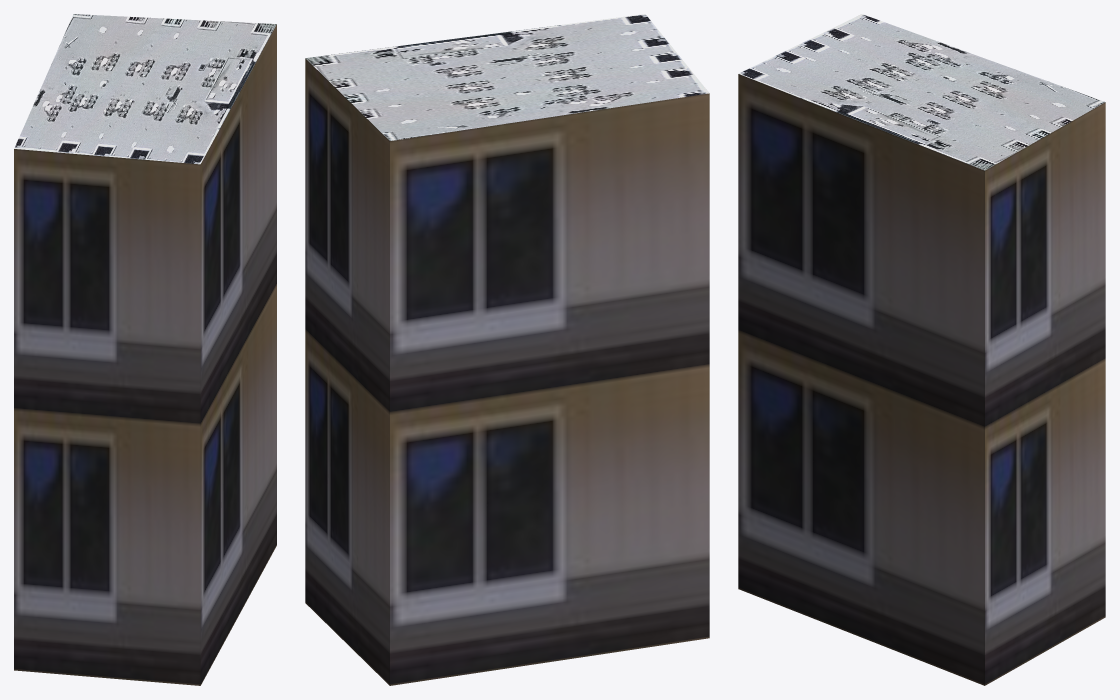
File: ResTex__261.fbx
3 views of the same model, side by side, from view 1: azimuth 30°, elevation 25°; view 2: azimuth 150°, elevation 25°; view 3: azimuth 270°, elevation 25° (orthographic). The views are drawn at different scales.
Visible parts, largest first — view 1: CityEngineMaterial_5_m, CityEngineMaterial_8_m; view 2: CityEngineMaterial_5_m, CityEngineMaterial_8_m; view 3: CityEngineMaterial_5_m, CityEngineMaterial_8_m.
Boxes of the visible parts, x1,y1,x2,y2 form: CityEngineMaterial_5_m: (14,24,276,685); CityEngineMaterial_8_m: (14,14,276,164); CityEngineMaterial_5_m: (305,58,709,685); CityEngineMaterial_8_m: (305,14,709,140); CityEngineMaterial_5_m: (738,74,1105,685); CityEngineMaterial_8_m: (738,14,1105,170).
Bounding box in the file's own units: 3.91 × 6 × 3.88.
2 materials, 2 textured.
